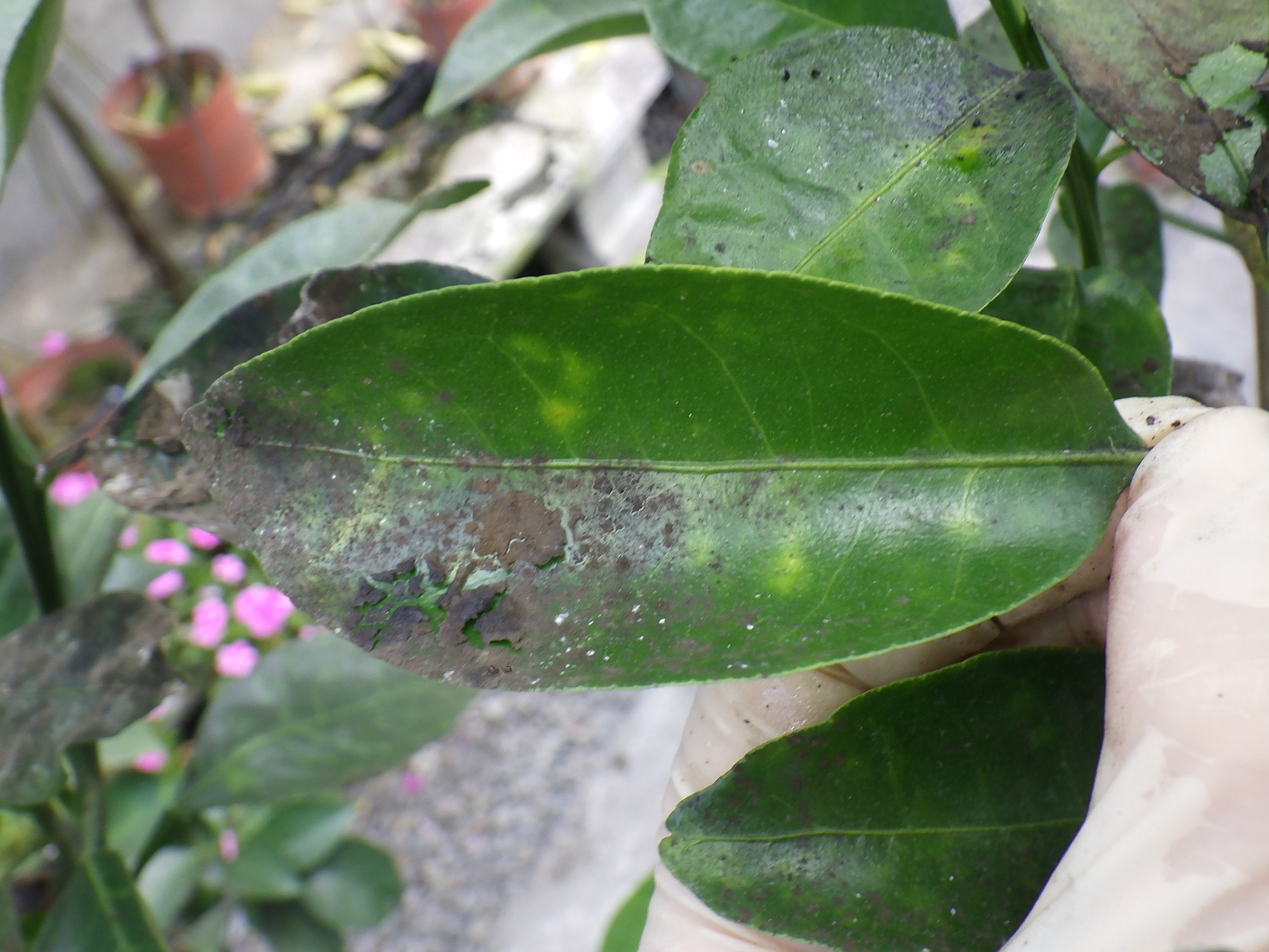Sooty_Mold: (185, 265, 1144, 689)
